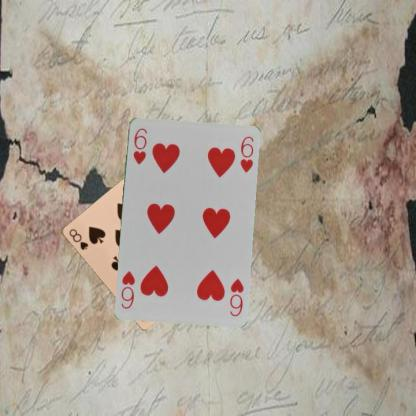6h: (227, 276, 245, 317), (130, 126, 148, 166)
8s: (66, 226, 90, 251)
